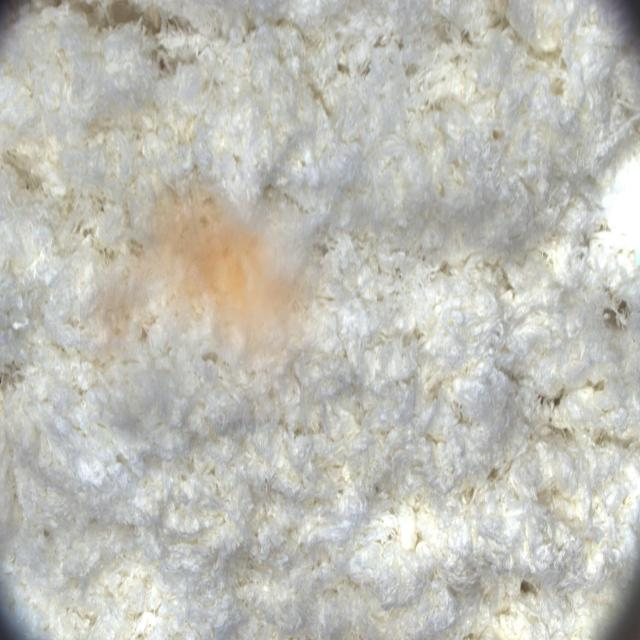dust: (80, 173, 341, 419)
